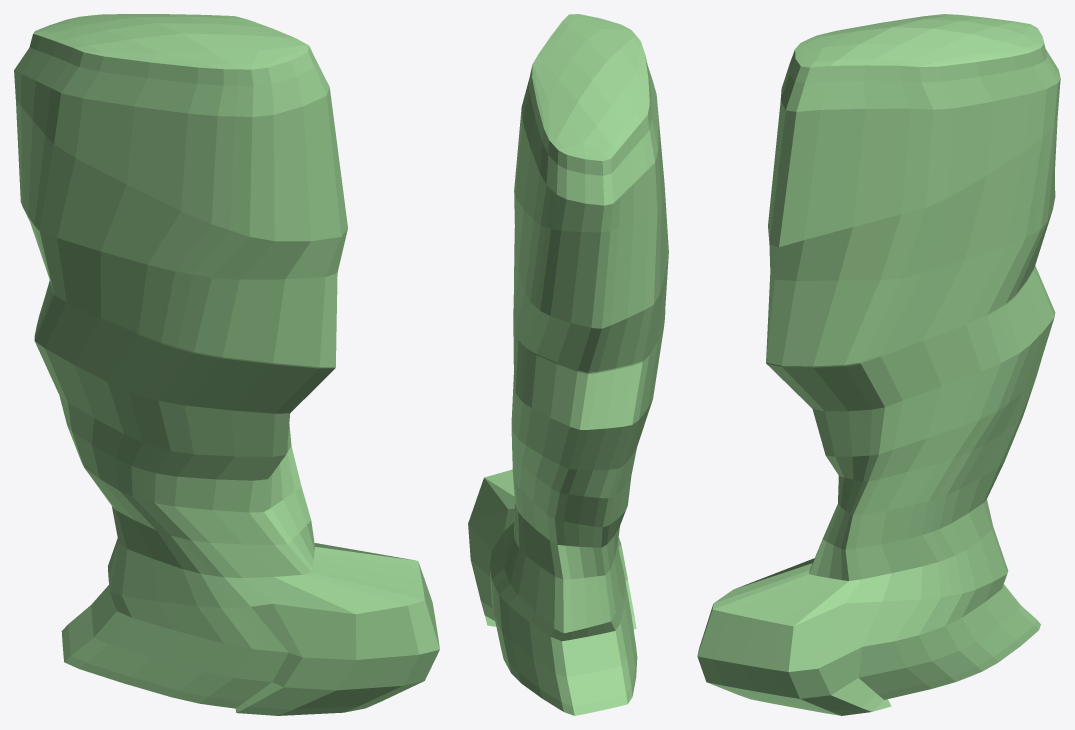
Rendered from SceneRockTALL.FBX.
3 views of the same model, side by side, from view 1: azimuth 30°, elevation 25°; view 2: azimuth 150°, elevation 25°; view 3: azimuth 270°, elevation 25° (orthographic). The views are drawn at different scales.
Parts seen in each view (by area): view 1: SceneRockTALL_LP; view 2: SceneRockTALL_LP; view 3: SceneRockTALL_LP.
Boxes of the visible parts, x1,y1,x2,y2 form: SceneRockTALL_LP: (14, 14, 439, 715); SceneRockTALL_LP: (468, 14, 668, 715); SceneRockTALL_LP: (697, 14, 1060, 715).
Size of the model in its own units: 26.83 by 57.14 by 30.04.
